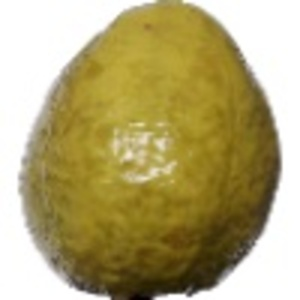goiaba: (13, 4, 290, 294)
